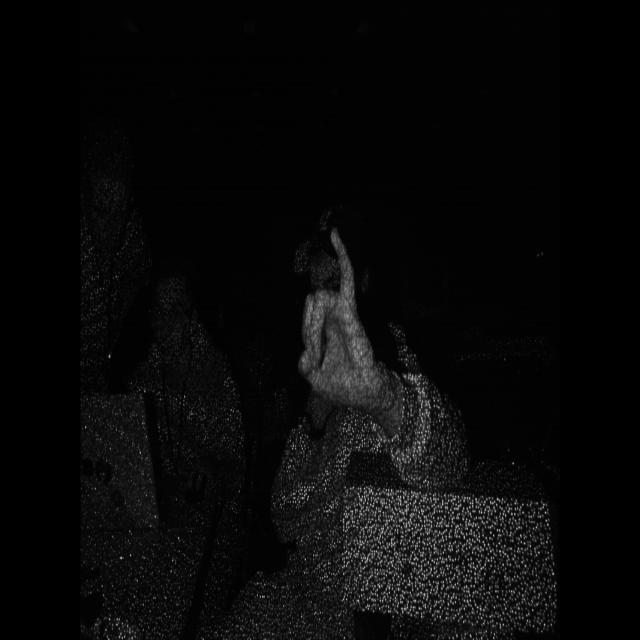I: (290, 211, 403, 434)
